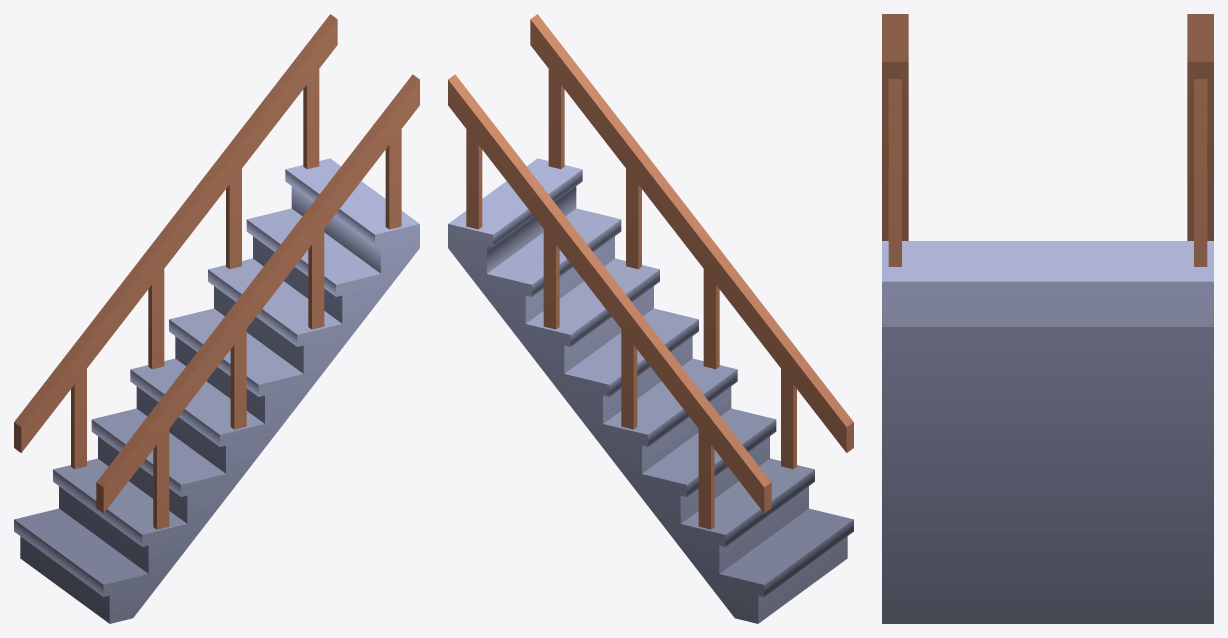
The model's file is stairs-stone-handrail.fbx.
The picture shows the model from 3 angles, left to right: view 1: azimuth 30°, elevation 25°; view 2: azimuth 150°, elevation 25°; view 3: azimuth 270°, elevation 25°; orthographic projection. The views are drawn at different scales.
Parts seen in each view (by area): view 1: stairs-stone-handrail; view 2: stairs-stone-handrail; view 3: stairs-stone-handrail.
Boxes of the visible parts, left/top/right/bottom form: stairs-stone-handrail: left=14, top=14, right=419, bottom=623; stairs-stone-handrail: left=448, top=14, right=853, bottom=623; stairs-stone-handrail: left=882, top=14, right=1213, bottom=623.
Size of the model in its own units: 102 by 144 by 50.
Materials: 1 (1 with a texture image).
